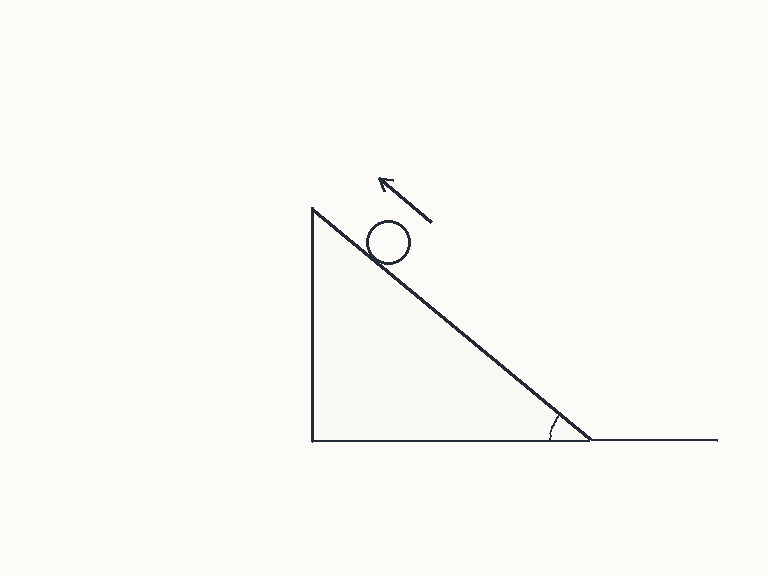ball: (364, 218, 412, 266)
ramp: (311, 205, 592, 442)
